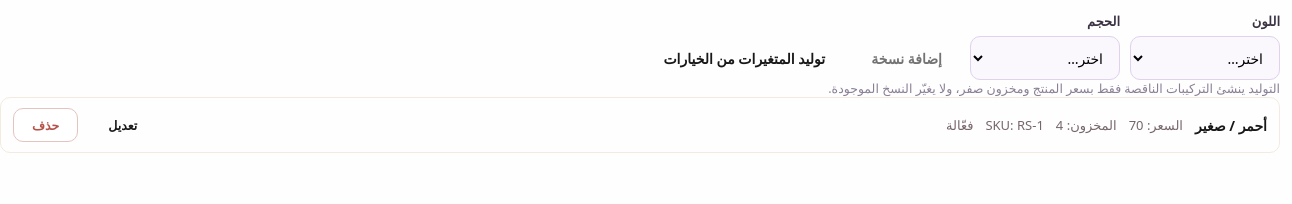
Test case: admin variant editing › opens an inline editor for an existing variant with its current values
Click the button with aria-label "تعديل أحمر / صغير" at (123,125), box [90,108,155,142]
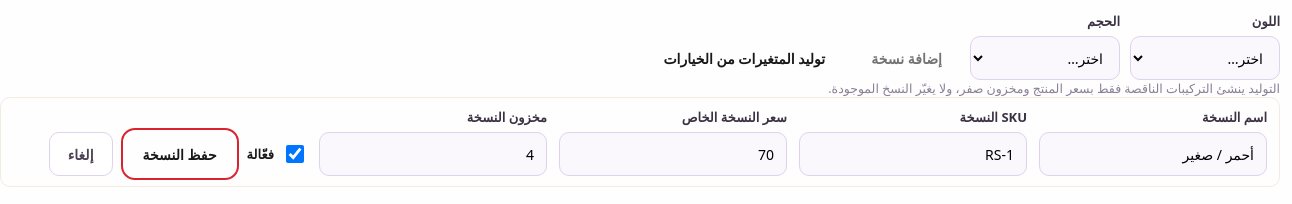
Expected: the field labelled "اسم النسخة" holds "أحمر / صغير", [1039,132,1267,176]
Expected: the field labelled "SKU النسخة" holds "RS-1", [799,132,1027,176]
Expected: the number field labelled "سعر النسخة الخاص" holds "70", [559,132,787,176]
